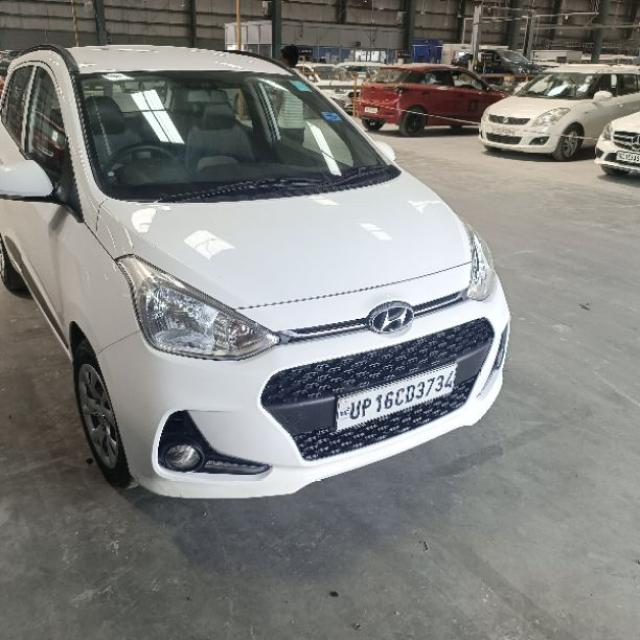license_plate: (334, 361, 457, 433)
